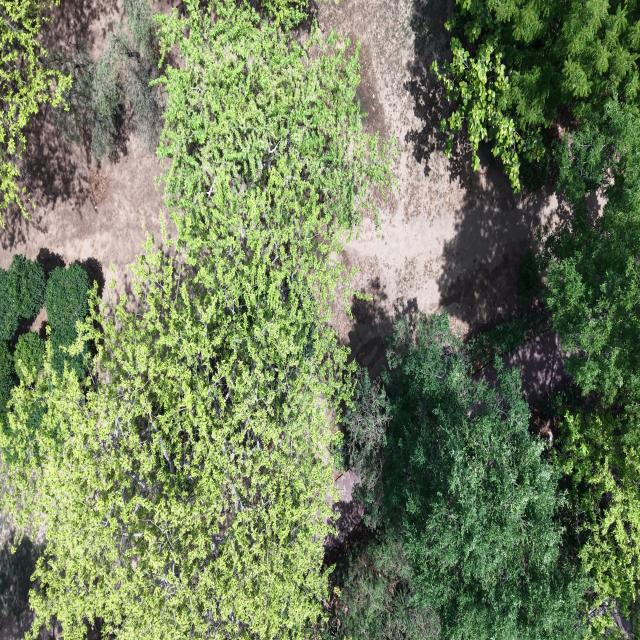DRY_AREA: (316, 0, 561, 372), (318, 0, 558, 372), (0, 112, 169, 291), (0, 113, 167, 291), (0, 139, 168, 290), (503, 331, 571, 404)
VEGETATION_TREE: (0, 0, 639, 639), (2, 0, 391, 638), (3, 255, 347, 637), (435, 0, 639, 635), (439, 0, 639, 632), (326, 317, 639, 638), (338, 315, 586, 639), (157, 3, 392, 316), (541, 102, 639, 635), (546, 99, 639, 632), (543, 127, 639, 636), (329, 337, 473, 637), (434, 0, 639, 190), (0, 0, 161, 213), (547, 105, 639, 404), (447, 0, 639, 127), (547, 203, 639, 404), (52, 0, 162, 159), (432, 38, 544, 191), (560, 412, 639, 615), (0, 0, 70, 213), (0, 255, 88, 411), (322, 531, 439, 639), (91, 0, 162, 157), (467, 249, 551, 370), (554, 97, 639, 206), (341, 366, 390, 529), (467, 305, 551, 370), (46, 263, 89, 378), (50, 43, 94, 144), (0, 255, 45, 340), (468, 315, 537, 370), (0, 539, 40, 633), (46, 263, 89, 333), (9, 255, 45, 318), (50, 330, 86, 378), (14, 332, 45, 384), (261, 0, 309, 29), (516, 248, 541, 302), (0, 270, 19, 341), (519, 153, 553, 192), (0, 341, 13, 419)
